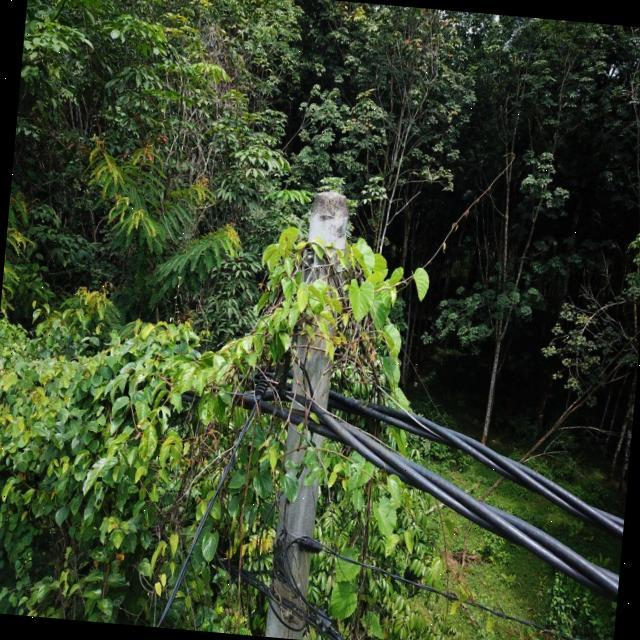critical vegetation: (0, 187, 437, 489)
